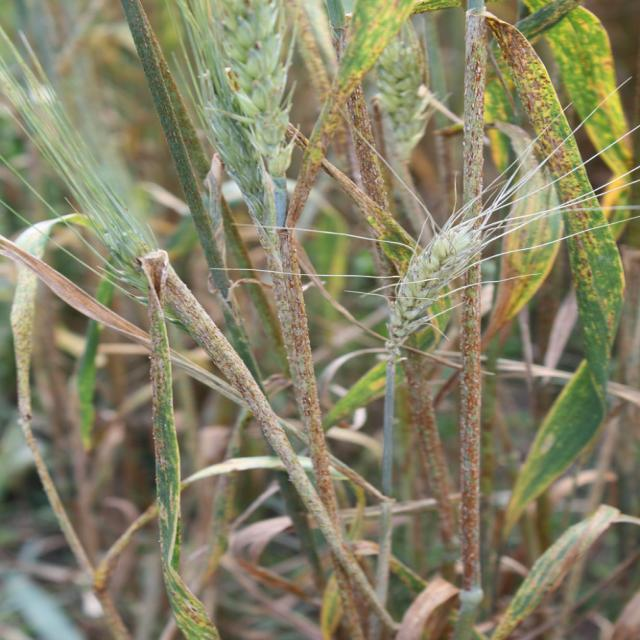wheat-stemrust: (140, 0, 425, 640), (462, 0, 625, 545), (417, 286, 483, 595), (491, 508, 634, 640), (516, 0, 629, 152), (600, 140, 632, 178)
